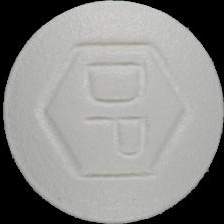50419-402: (0, 0, 224, 224)
